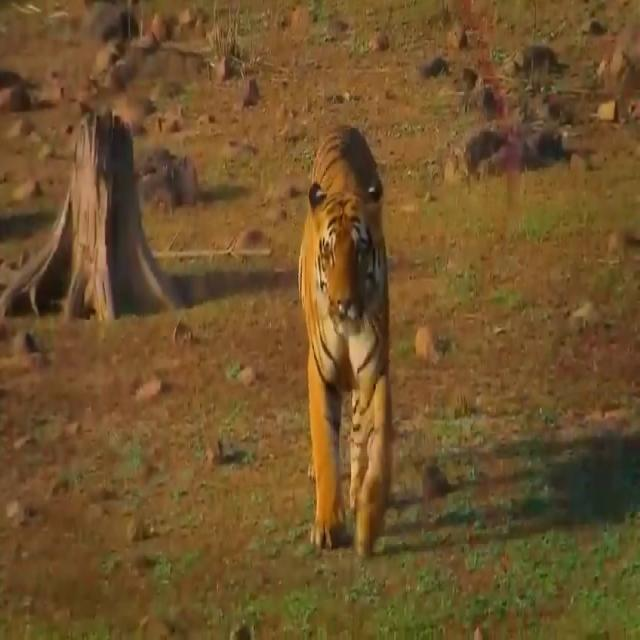tiger: (298, 121, 392, 558)
